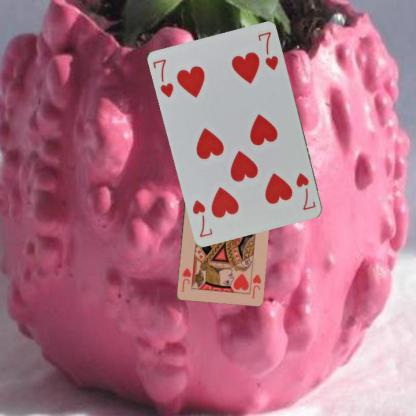7h: (150, 56, 175, 99), (294, 170, 317, 212)
Jh: (247, 269, 262, 299)
